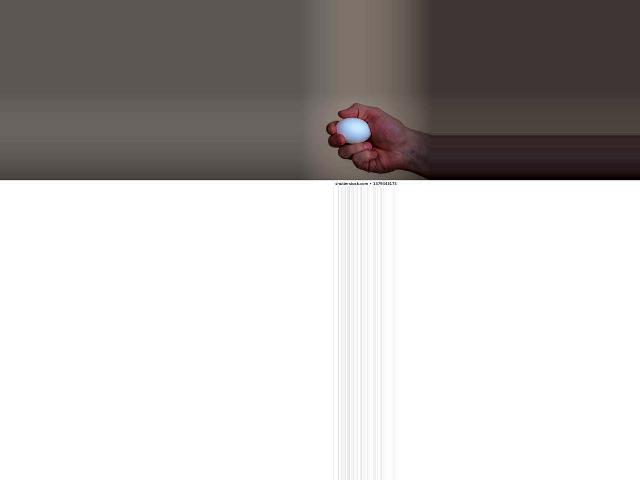egg: (336, 117, 371, 143)
